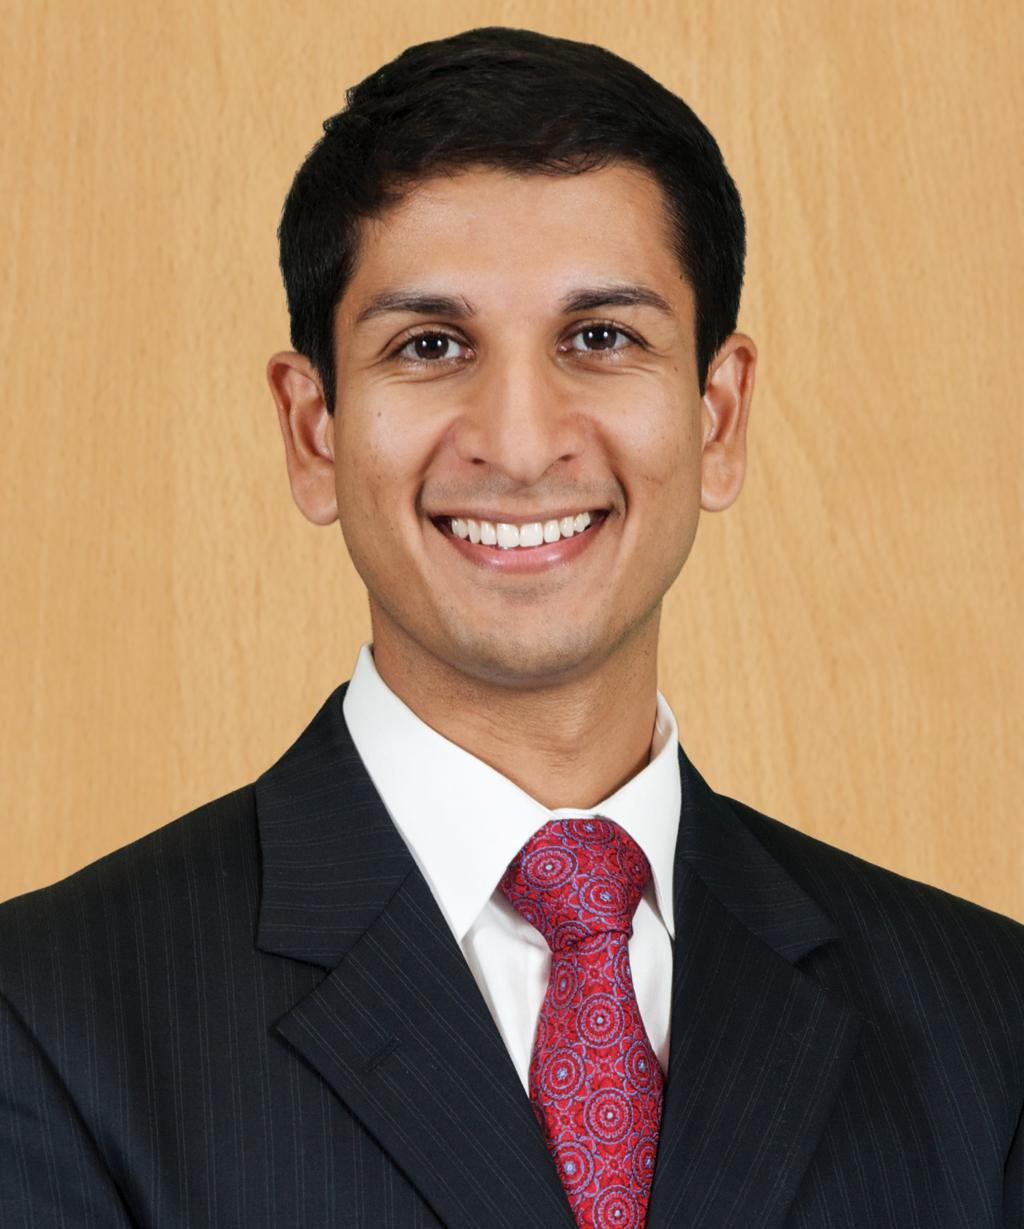face: (329, 175, 701, 681)
